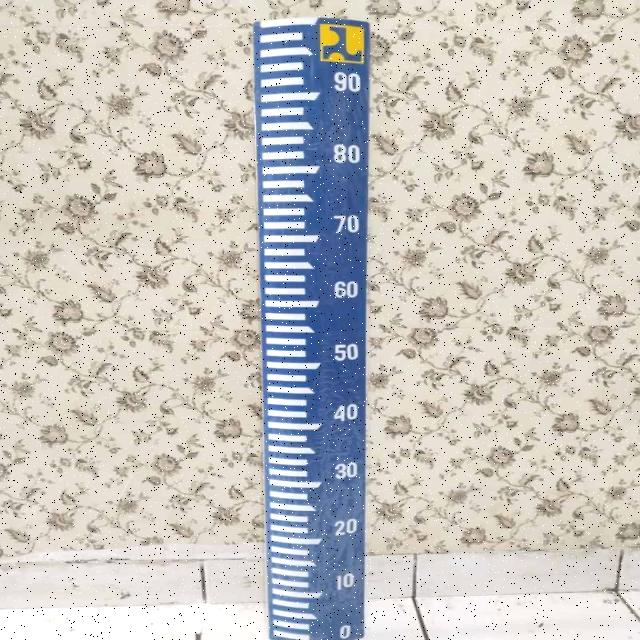10: (333, 569, 358, 591)
20: (331, 514, 359, 539)
30: (332, 458, 362, 482)
40: (332, 400, 361, 423)
50: (333, 339, 359, 363)
60: (330, 276, 362, 300)
70: (328, 208, 362, 238)
80: (332, 140, 361, 170)
90: (332, 70, 362, 94)
staff: (255, 19, 368, 638)
